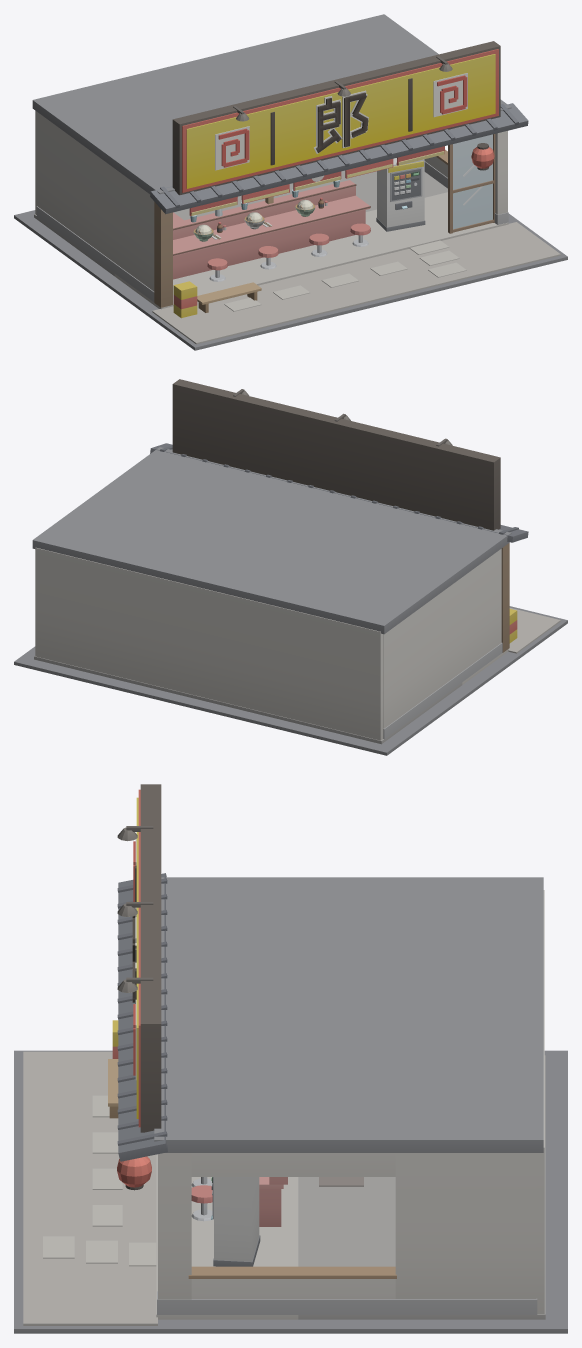
The model's file is ramenro.glb.
3 views of the same model, one above another, from view 1: azimuth 30°, elevation 25°; view 2: azimuth 150°, elevation 25°; view 3: azimuth 270°, elevation 25° (orthographic). The views are drawn at different scales.
Visible parts, largest first — view 1: geometry_0; view 2: geometry_0; view 3: geometry_0.
Boxes of the visible parts, left/top/right/bottom form: geometry_0: left=14, top=14, right=567, bottom=350; geometry_0: left=14, top=379, right=567, bottom=755; geometry_0: left=14, top=784, right=567, bottom=1333.
Bounding box in the file's own units: 17.6 × 8.6 × 14.8.
